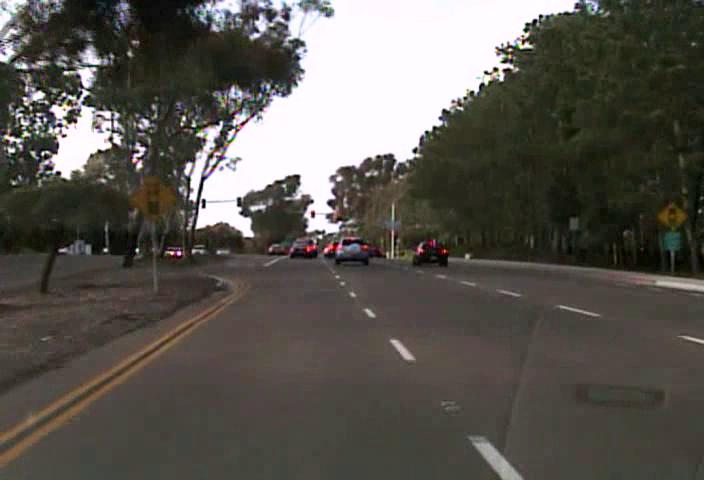signalAhead: (657, 201, 688, 232)
